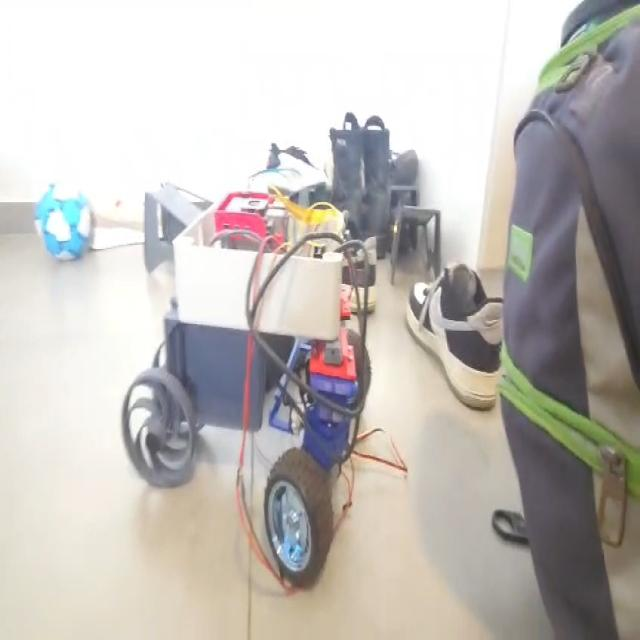Robot: (115, 168, 375, 598)
